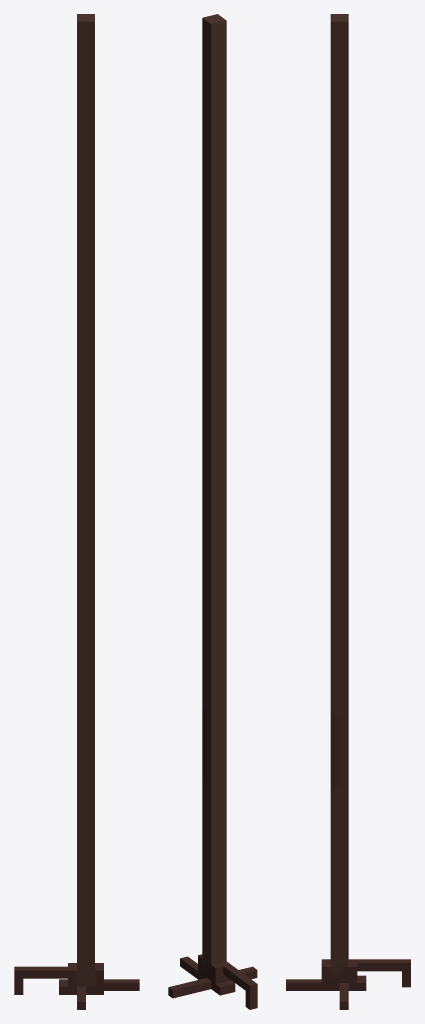
The model's file is tree_thin.fbx.
The picture shows the model from 3 angles, left to right: view 1: azimuth 90°, elevation 25°; view 2: azimuth 210°, elevation 25°; view 3: azimuth 270°, elevation 25°; orthographic projection.
Parts seen in each view (by area): view 1: tree_thin; view 2: tree_thin; view 3: tree_thin.
Boxes of the visible parts, x1,y1,x2,y2 form: tree_thin: [14, 14, 139, 1009]; tree_thin: [168, 14, 257, 1009]; tree_thin: [286, 14, 410, 1009].
Bounding box in the file's own units: 11 × 120 × 14.
1 material, 1 textured.
